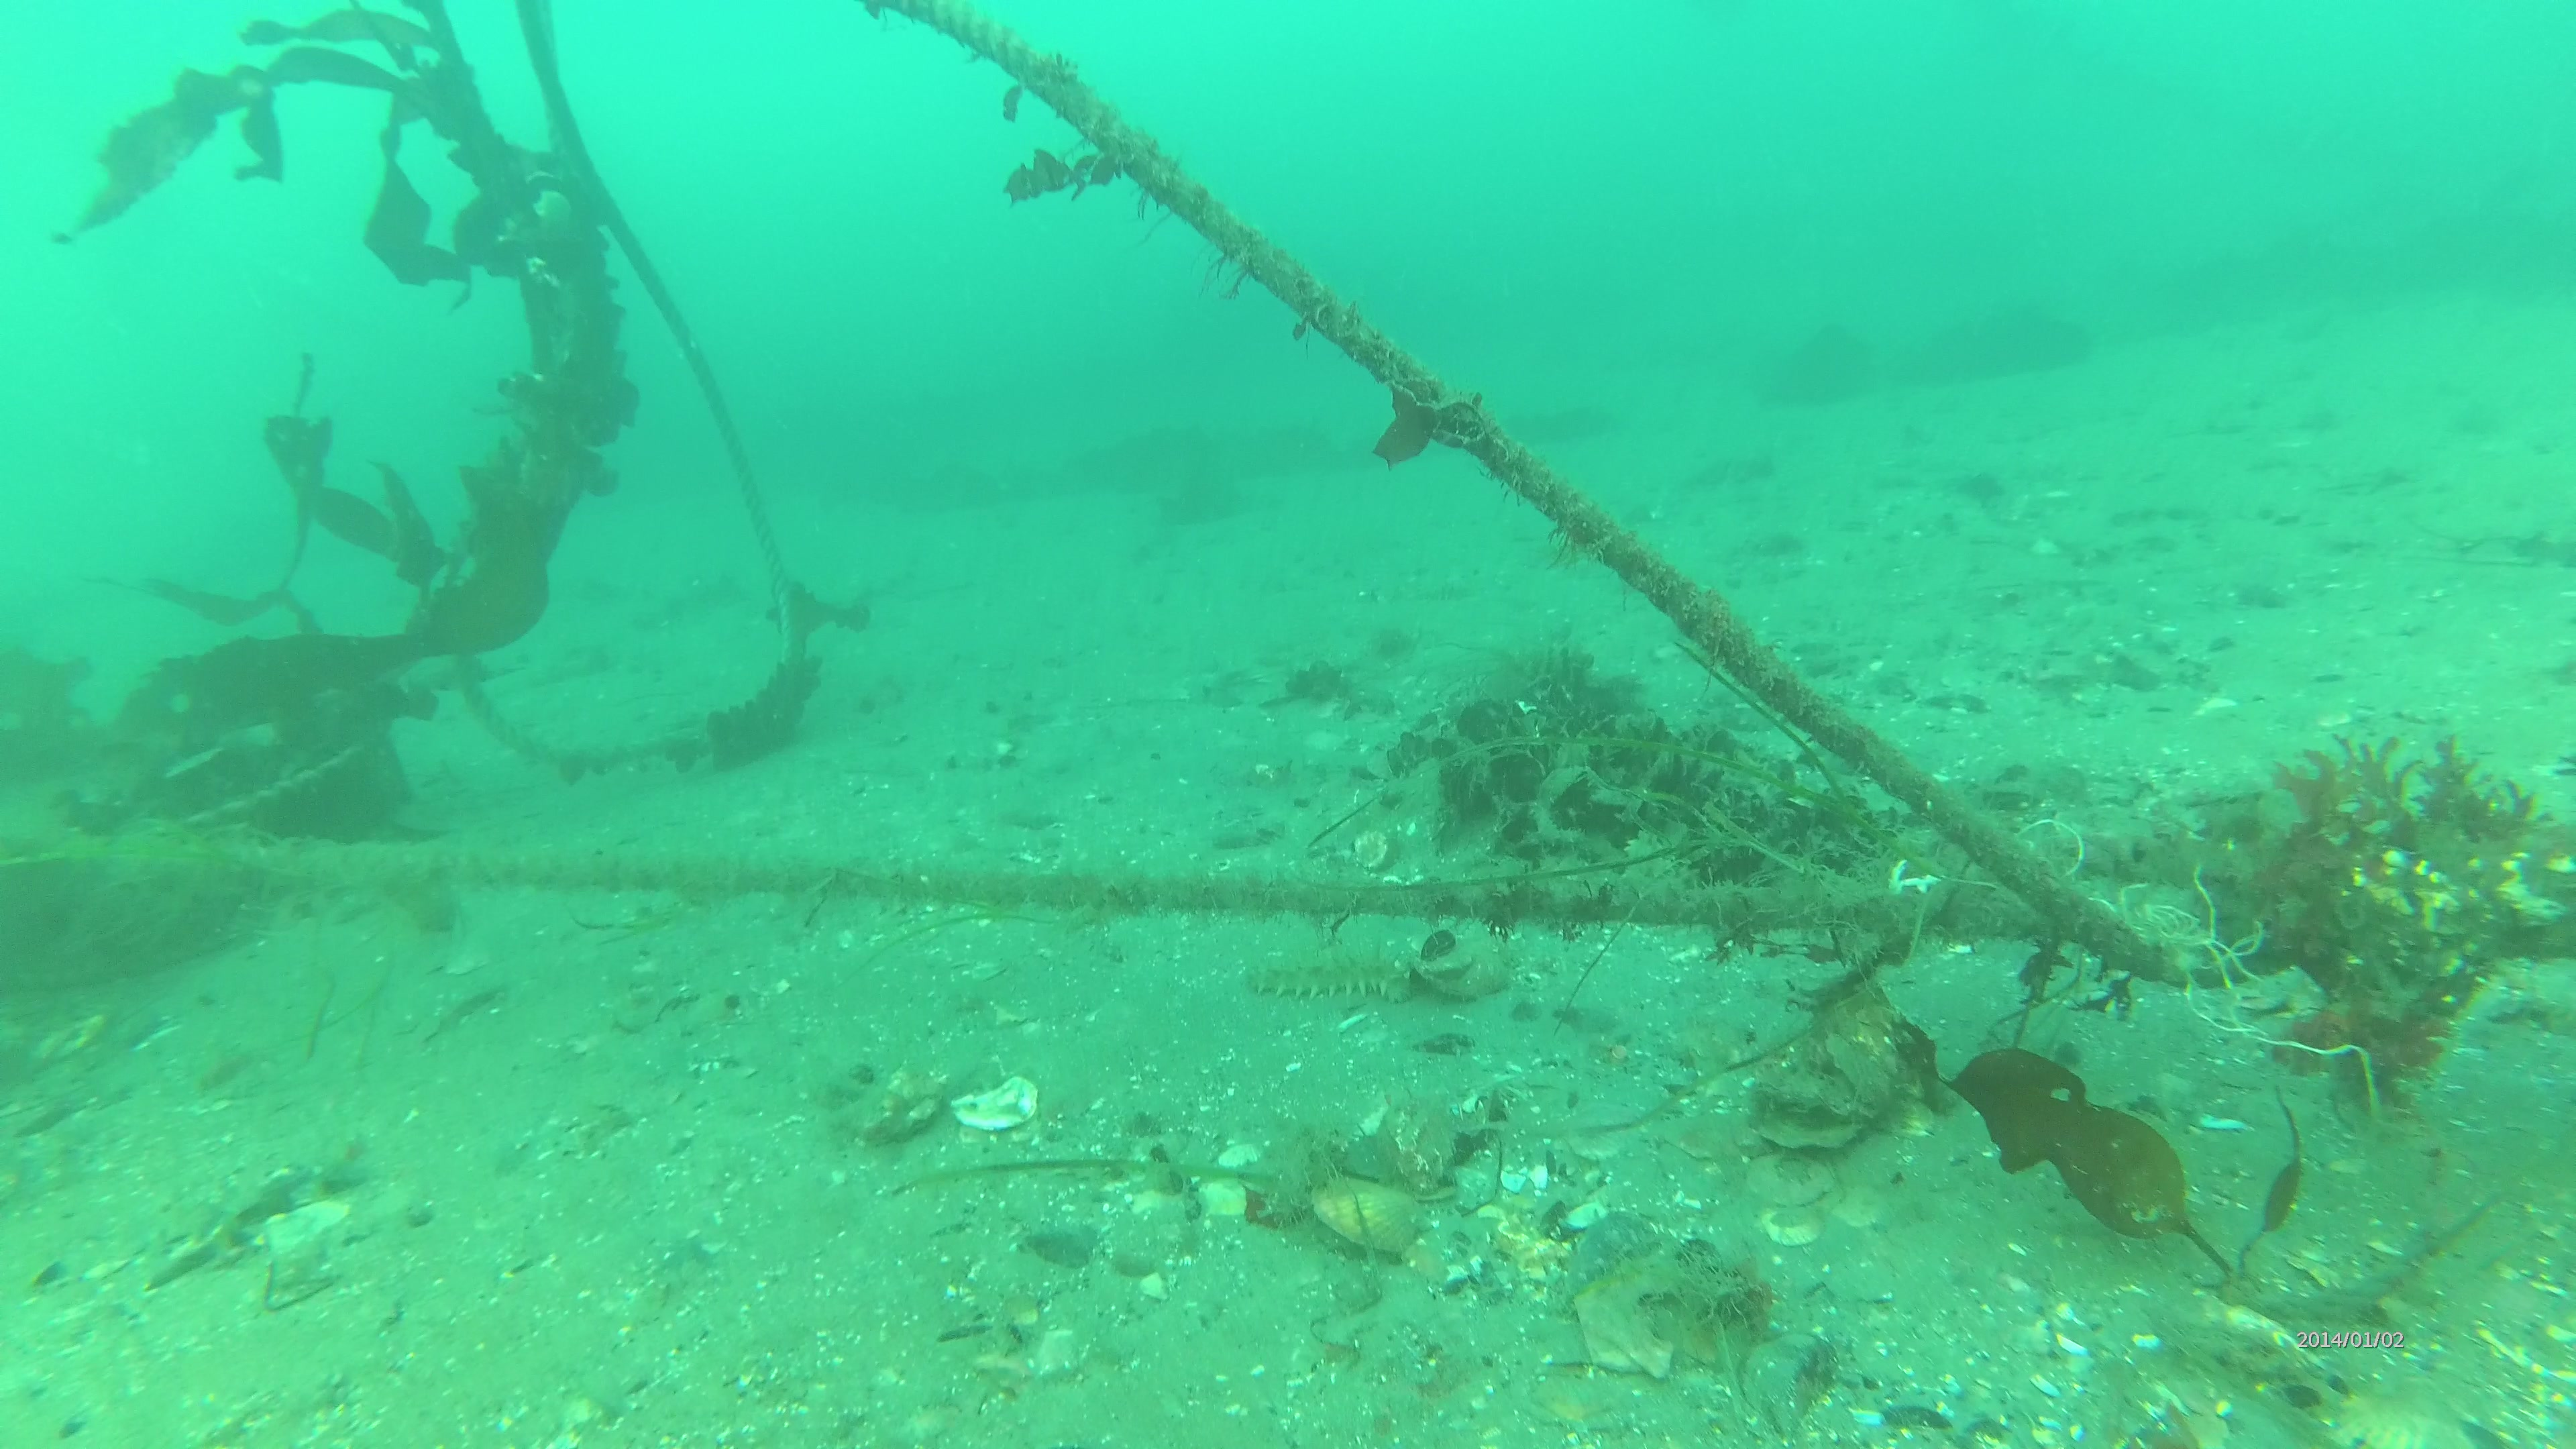holothurian: (1246, 941, 1417, 1007)
scallop: (1309, 1168, 1437, 1265), (1734, 1132, 1845, 1207)
